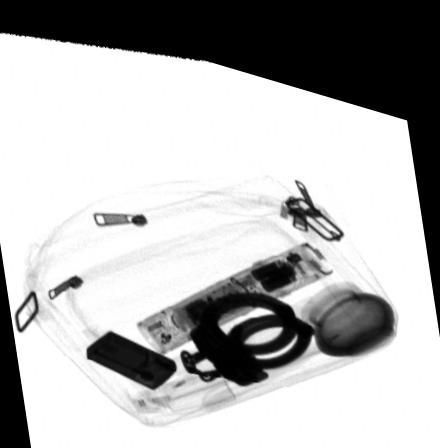Baton: (137, 224, 335, 346)
HandCuffs: (178, 279, 320, 374)
Lighter: (85, 323, 178, 382)
